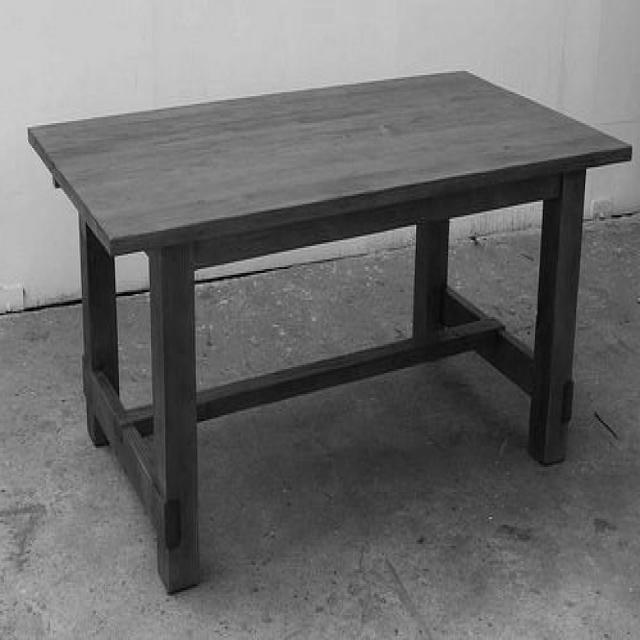table: (27, 66, 631, 592)
